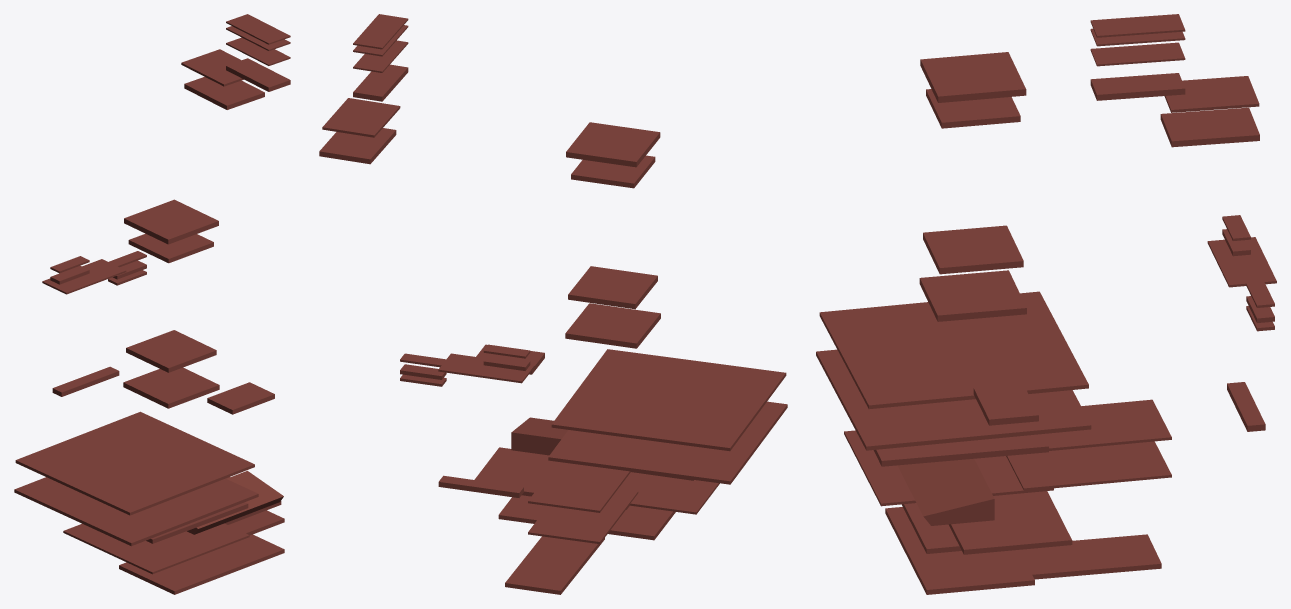
Rendered from platforme bois 02.fbx.
The picture shows the model from 3 angles, left to right: view 1: azimuth 30°, elevation 25°; view 2: azimuth 150°, elevation 25°; view 3: azimuth 270°, elevation 25°; orthographic projection. The views are drawn at different scales.
Parts seen in each view (by area): view 1: Cube.212, Cube.203, Cube.209, Cube.213, Cube.224, Cube.220, Cube.223, Cube.372, Cube.215, Cube.225, Cube.253, Cube.371 (+9 smaller); view 2: Cube.212, Cube.203, Cube.292, Cube.071, Cube.220, Cube.291, Cube.224, Cube.209, Cube.223, Cube.213, Cube.105, Cube.371 (+8 smaller); view 3: Cube.212, Cube.203, Cube.291, Cube.213, Cube.105, Cube.215, Cube.071, Cube.220, Cube.224, Cube.292, Cube.223, Cube.209 (+12 smaller).
Boxes of the visible parts, box(x1,y1,x2,y2) form: Cube.212: box(15, 411, 254, 515); Cube.203: box(14, 477, 258, 546); Cube.209: box(63, 523, 249, 574); Cube.213: box(119, 534, 284, 594); Cube.224: box(124, 199, 218, 244); Cube.220: box(123, 367, 219, 408); Cube.223: box(126, 330, 216, 372); Cube.372: box(184, 76, 264, 109); Cube.215: box(187, 471, 283, 534); Cube.225: box(128, 233, 213, 263); Cube.253: box(207, 382, 274, 414); Cube.371: box(181, 49, 243, 86); Cube.212: box(551, 349, 786, 451); Cube.203: box(548, 401, 787, 484); Cube.292: box(528, 462, 630, 512); Cube.071: box(505, 536, 604, 594); Cube.220: box(565, 303, 660, 348); Cube.291: box(528, 489, 638, 544); Cube.224: box(566, 122, 660, 167); Cube.209: box(618, 472, 719, 514); Cube.223: box(568, 266, 657, 309); Cube.213: box(498, 495, 675, 540); Cube.105: box(474, 447, 629, 509); Cube.371: box(322, 98, 400, 137); Cube.212: box(819, 291, 1088, 409); Cube.203: box(816, 349, 1091, 450); Cube.291: box(1006, 441, 1171, 490); Cube.213: box(885, 507, 1034, 594); Cube.105: box(949, 491, 1072, 554); Cube.215: box(897, 458, 994, 525); Cube.071: box(1020, 534, 1161, 579); Cube.220: box(919, 270, 1026, 321); Cube.224: box(920, 52, 1026, 102); Cube.292: box(1043, 399, 1171, 450); Cube.223: box(923, 225, 1023, 274); Cube.209: box(844, 430, 1053, 506).
Bounding box in the file's own units: 6061 × 9028 × 6054.
